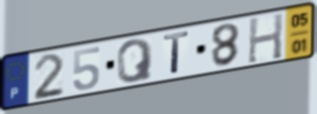2: (33, 52, 66, 102)
5: (72, 45, 101, 92)
8: (210, 22, 241, 69)
H: (246, 11, 285, 65)
Q: (115, 37, 155, 85)
T: (162, 30, 191, 77)
